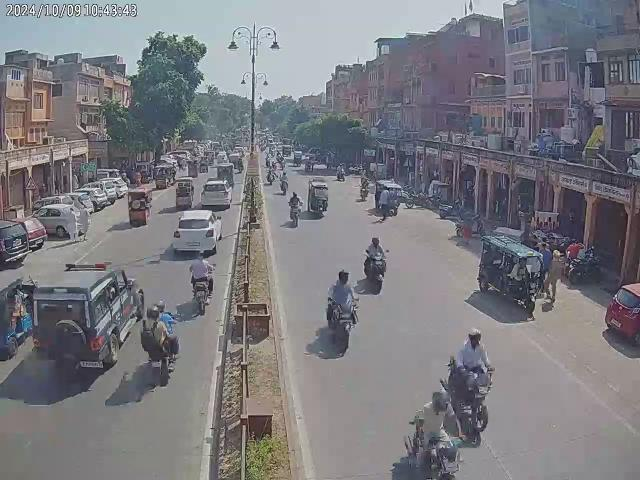auto: (476, 229, 547, 316), (126, 188, 152, 228), (306, 177, 330, 216), (376, 181, 400, 216), (174, 176, 194, 210), (152, 163, 174, 189), (214, 163, 233, 187)
car: (31, 261, 143, 380), (32, 196, 90, 242), (173, 210, 220, 258), (604, 280, 640, 341), (200, 178, 232, 210), (96, 179, 120, 200)
helmet: (467, 327, 483, 342), (147, 305, 160, 320), (154, 298, 166, 314), (338, 268, 350, 284), (371, 236, 382, 246)
motorbike: (570, 252, 605, 284)
motorbike-rider: (440, 326, 496, 446), (140, 300, 180, 386), (324, 268, 362, 350), (190, 251, 216, 315), (287, 192, 303, 228)
no_helmet: (196, 250, 205, 260)
scooty-rider: (362, 236, 390, 290), (336, 162, 346, 182)
